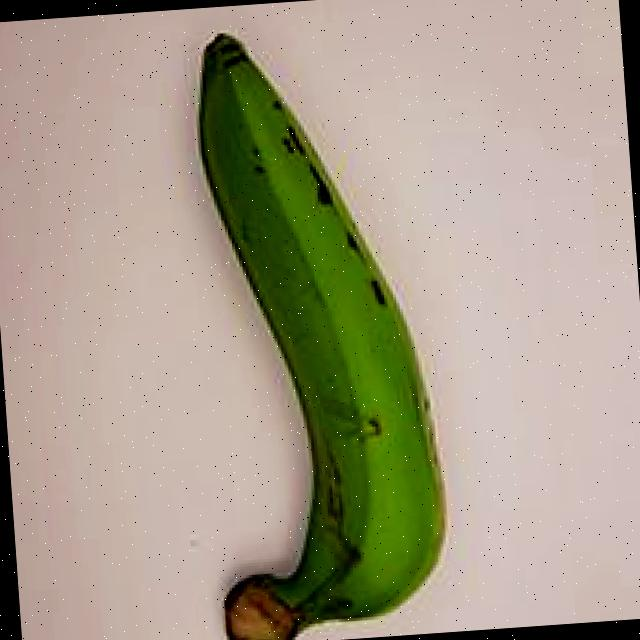Raw: (115, 3, 478, 640)
